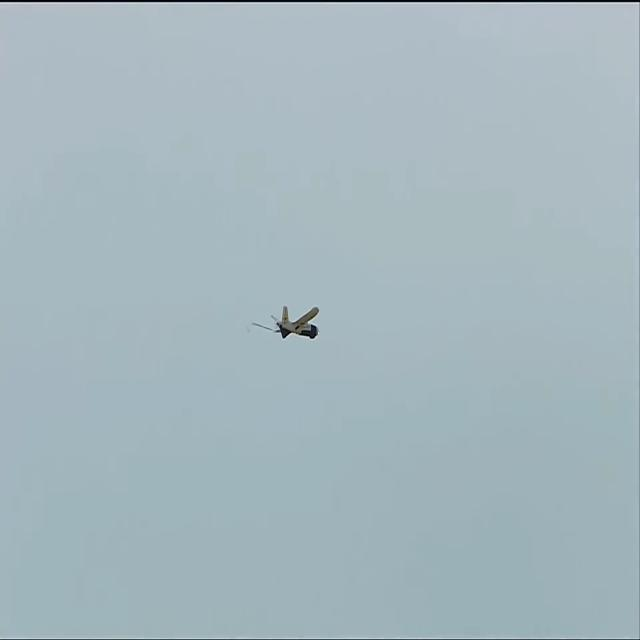iha: (271, 305, 321, 344)
